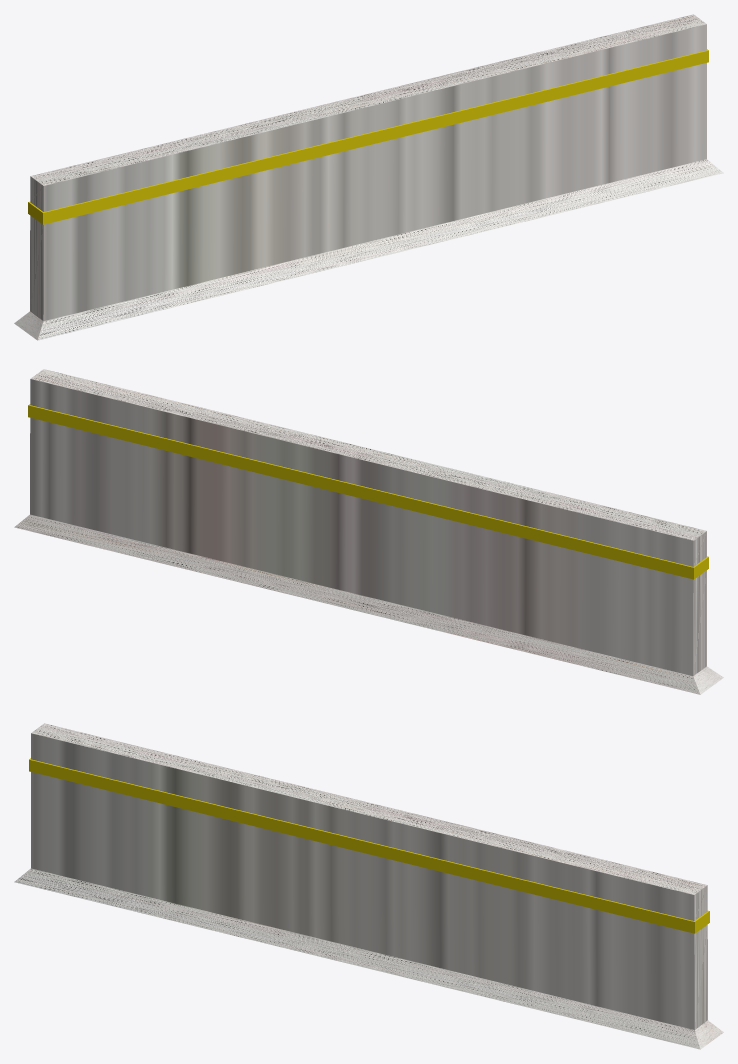
File: lancan1.glb
3 views of the same model, one above another, from view 1: azimuth 30°, elevation 25°; view 2: azimuth 150°, elevation 25°; view 3: azimuth 330°, elevation 25° (orthographic).
Parts seen in each view (by area): view 1: Cube.001; view 2: Cube.001; view 3: Cube.001.
Part boxes in pixels (left/top/right/bottom): Cube.001: left=14, top=14, right=723, bottom=340; Cube.001: left=14, top=369, right=723, bottom=694; Cube.001: left=14, top=723, right=723, bottom=1049.
Bounding box in the file's own units: 11.08 × 2.28 × 0.6577.
2 materials, 1 textured.
